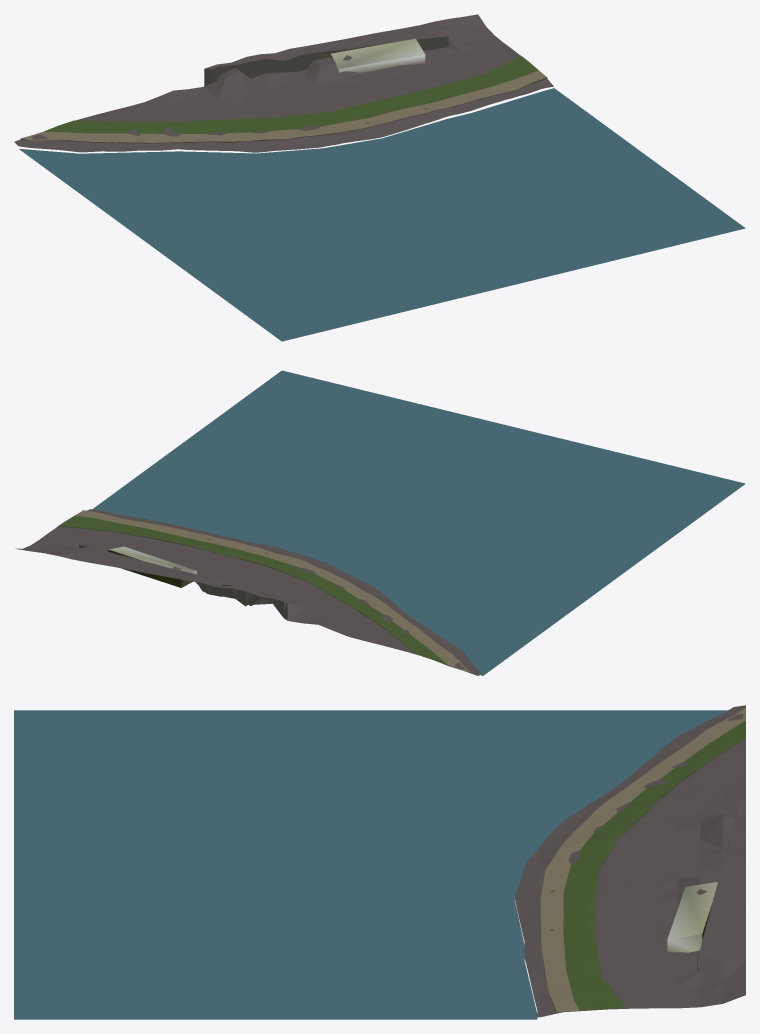
The picture shows the model from 3 angles, top to bottom: view 1: azimuth 30°, elevation 25°; view 2: azimuth 150°, elevation 25°; view 3: azimuth 270°, elevation 25°; orthographic projection. The views are drawn at different scales.
Visible parts, largest first — view 1: c_m20_m01; view 2: c_m20_m01; view 3: c_m20_m01.
Part boxes in pixels (x1,y1,x2,y2): c_m20_m01: [14, 14, 745, 341]; c_m20_m01: [15, 370, 745, 676]; c_m20_m01: [14, 705, 745, 1019].
Bounding box in the file's own units: 128 × 8.41 × 128.
